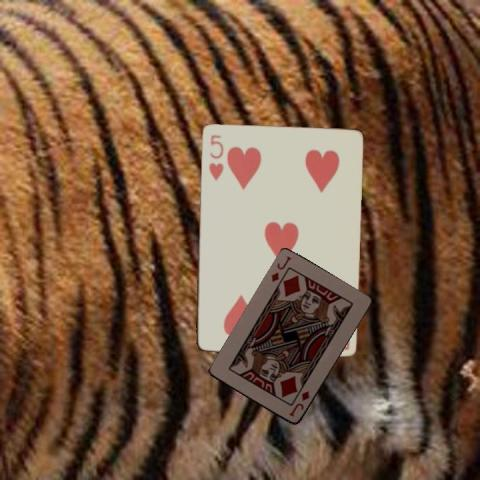5h: (205, 131, 225, 183)
Jd: (286, 388, 311, 419), (268, 253, 292, 284)
